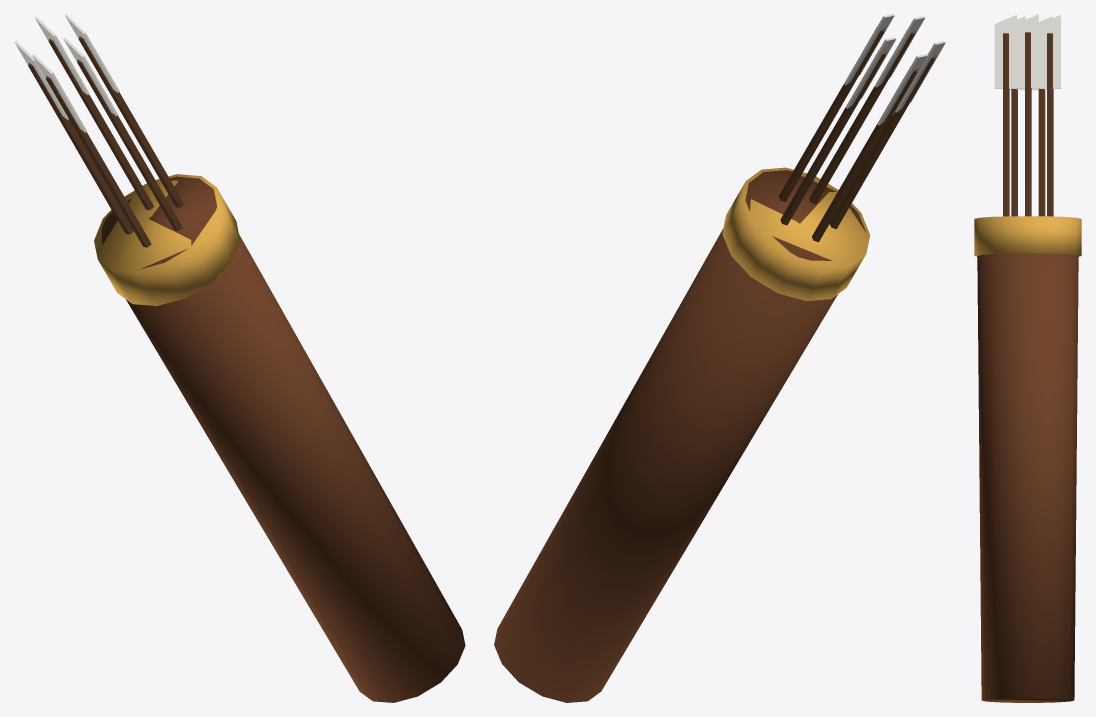
File: quiver.glb
The picture shows the model from 3 angles, left to right: view 1: azimuth 30°, elevation 25°; view 2: azimuth 150°, elevation 25°; view 3: azimuth 270°, elevation 25°; orthographic projection. The views are drawn at different scales.
Parts seen in each view (by area): view 1: quiver; view 2: quiver; view 3: quiver.
Part boxes in pixels (x1,y1,x2,y2): quiver: [14, 14, 465, 702]; quiver: [494, 14, 945, 702]; quiver: [974, 14, 1081, 702].
Size of the model in its own units: 0.4092 by 0.6885 by 0.1161.
